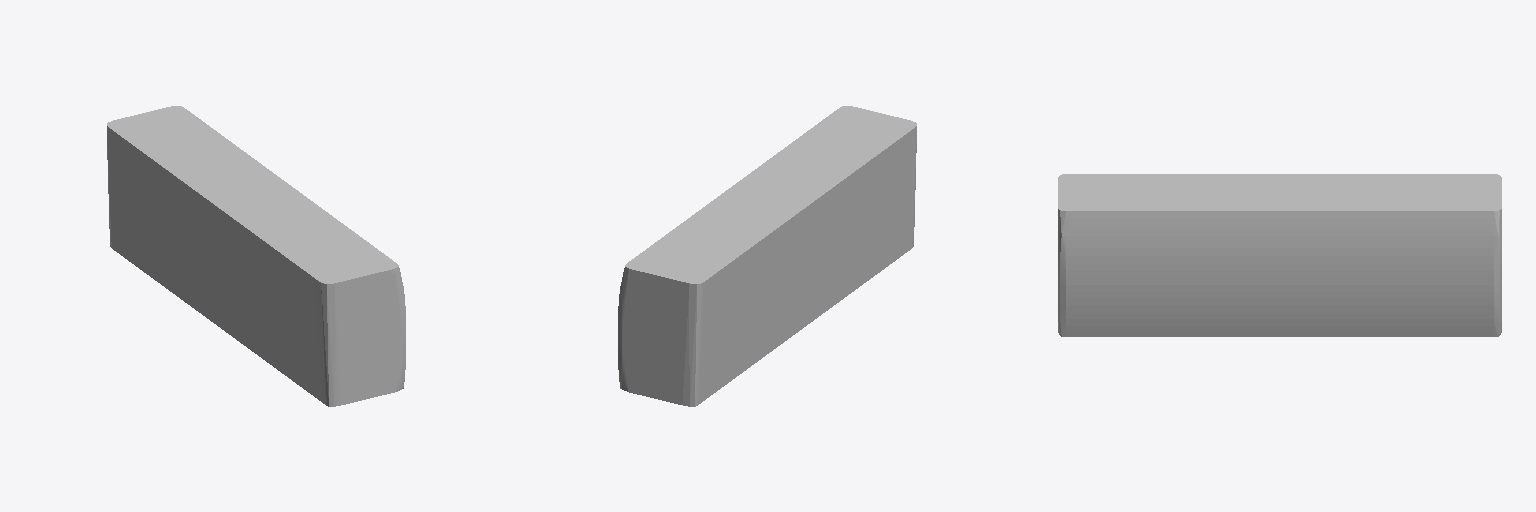
File: Cylinder_with_Hole_collision_11.obj
3 views of the same model, side by side, from view 1: azimuth 30°, elevation 25°; view 2: azimuth 150°, elevation 25°; view 3: azimuth 270°, elevation 25° (orthographic).
Bounding box in the file's own units: 31.24 × 43.83 × 143.